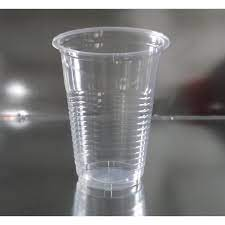plastic: (51, 27, 172, 193)
